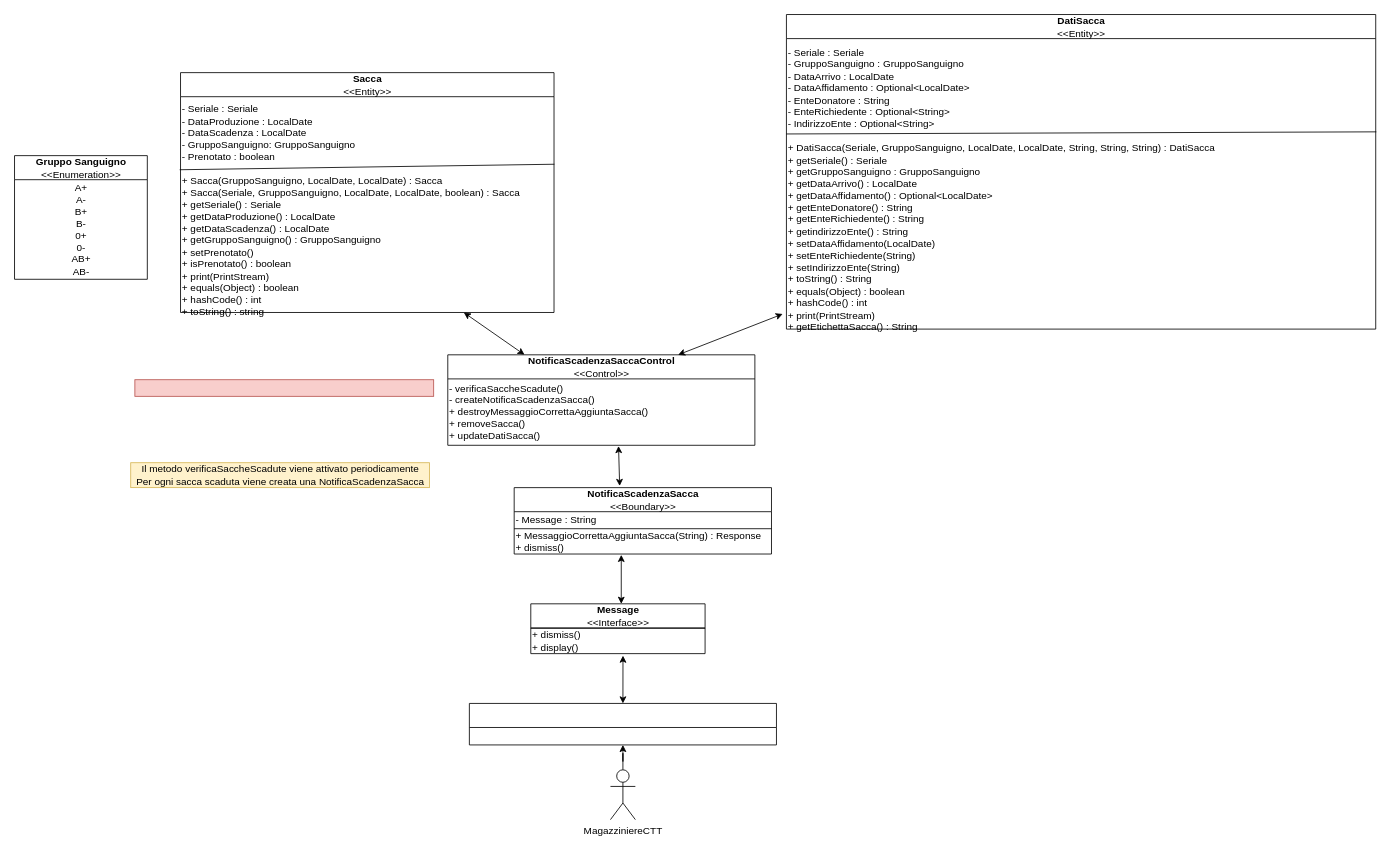
This 1392x852 diagram has some shape labels left out. The shapes that lost their labels are listed below. From the top down, each one's centre as x and y in pixels, then its label:
At pixel 284 387: "Class diagram relativo allo use case EliminazioneSaccaScaduta".
At pixel 622 724: "TerminaleMagazziniereCTT <<Boundary>>".
